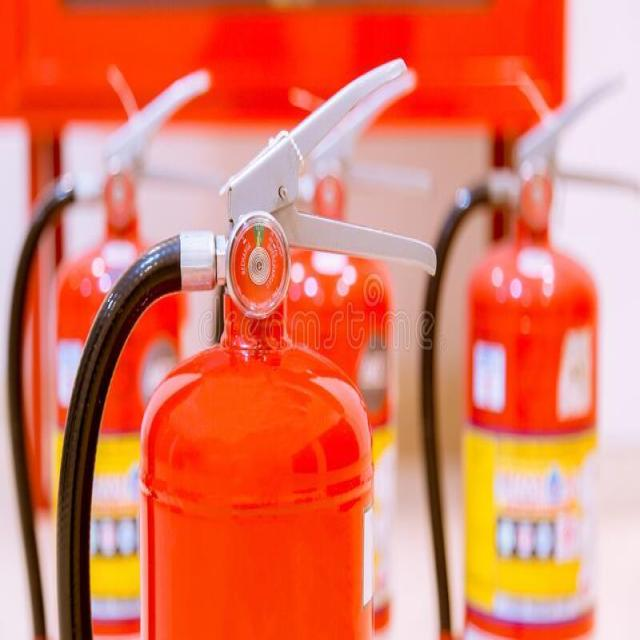fire_extinguisher: (46, 51, 442, 638), (0, 56, 230, 639), (418, 61, 639, 638)
